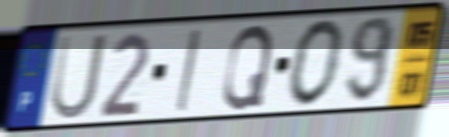2: (98, 28, 153, 120)
9: (345, 14, 397, 108)
I: (173, 26, 203, 115)
O: (285, 17, 347, 110)
Q: (220, 21, 276, 113)
U: (47, 31, 110, 123)
